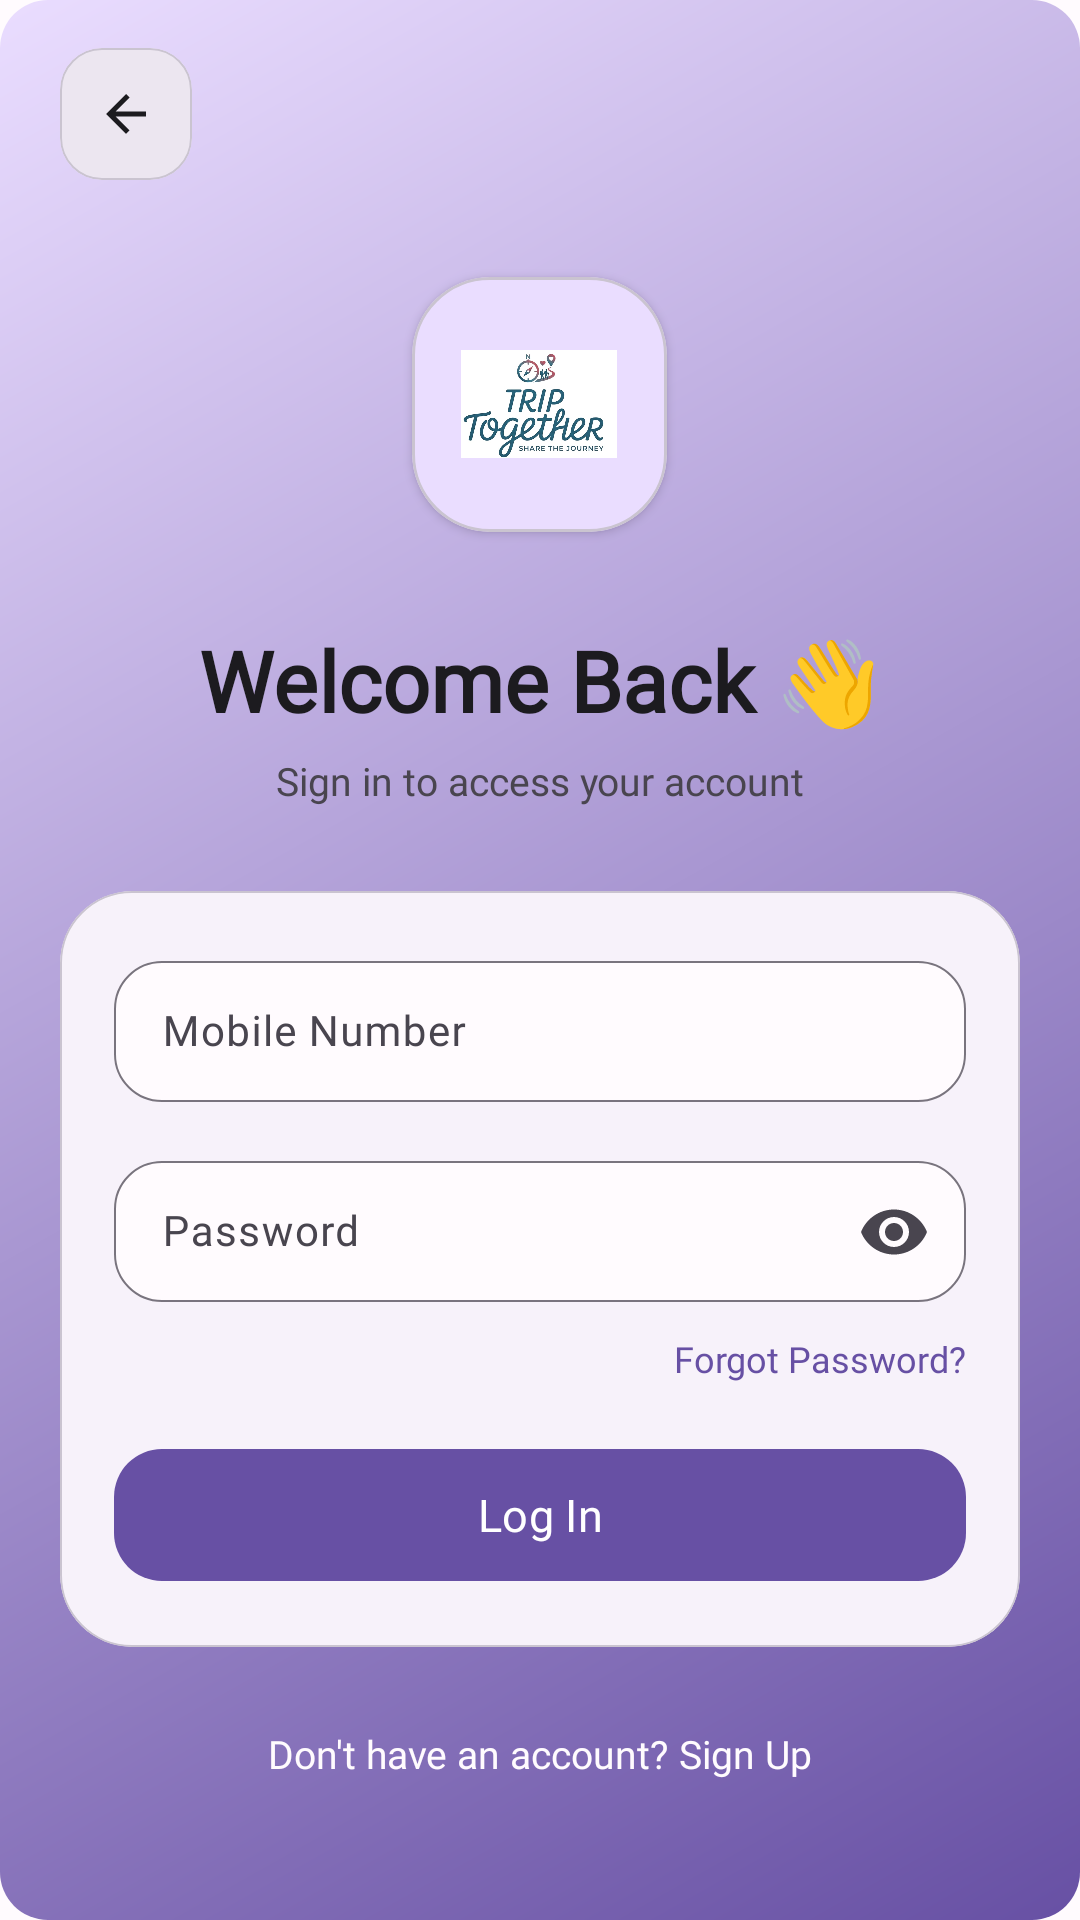

Icon bounding boxes for this 1080×1920 phone screenshot, format [left=x1, top=y1, right=x2, bottom=y2]:
Back: [left=60, top=48, right=192, bottom=180]
